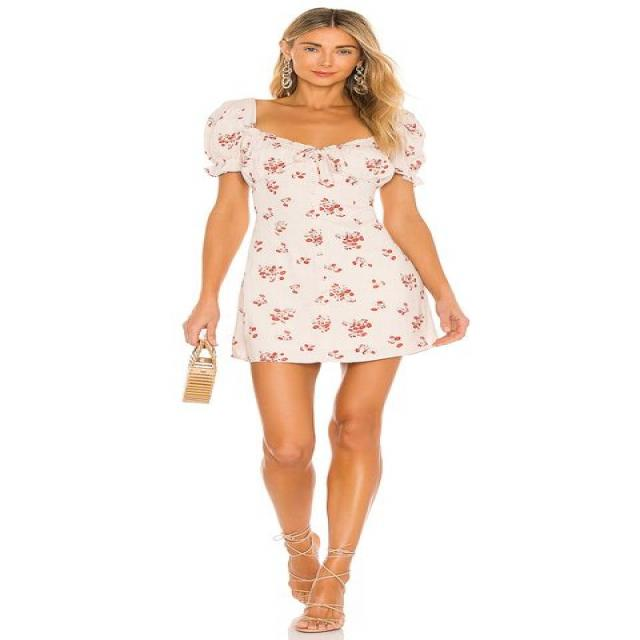clothes: (195, 86, 479, 378)
